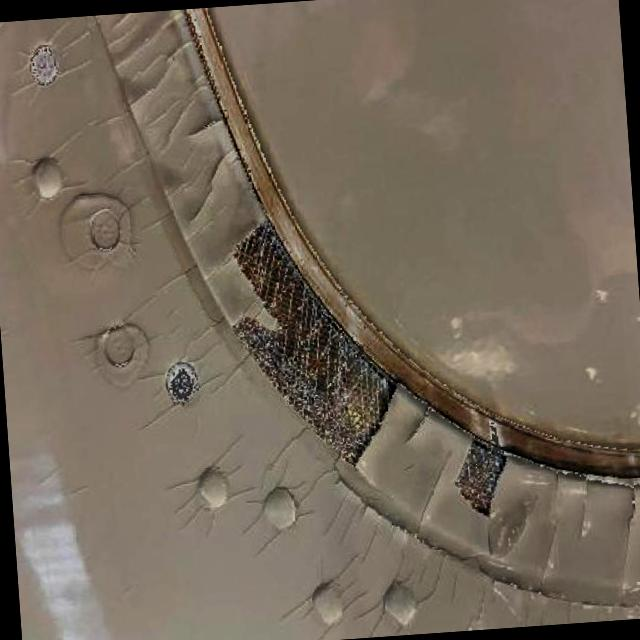crack: (209, 152, 232, 184), (406, 416, 431, 442), (190, 118, 224, 134)
